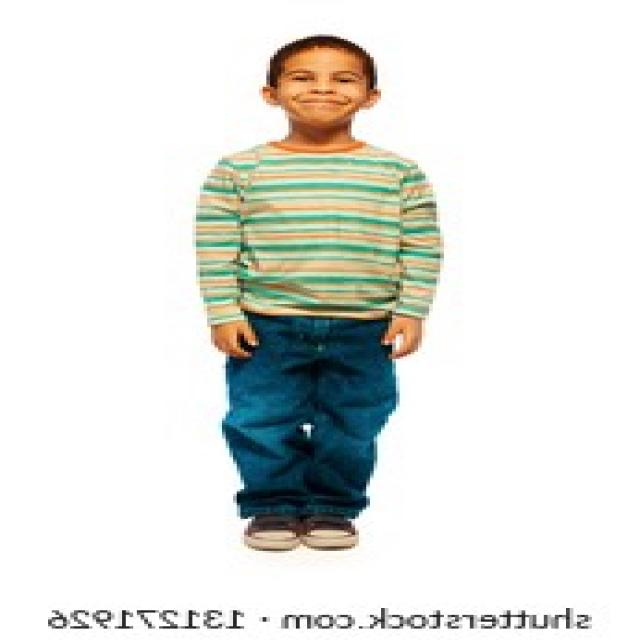child: (181, 23, 481, 569)
